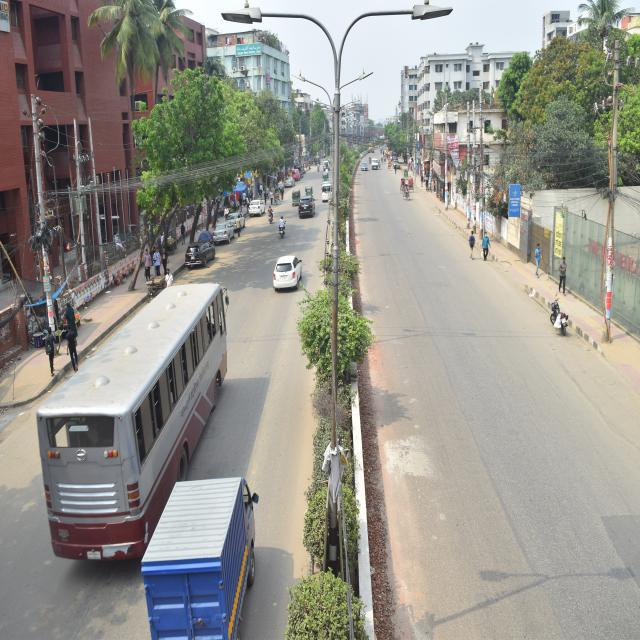bus: (37, 277, 231, 548)
car: (270, 253, 307, 295), (176, 235, 213, 274), (318, 186, 342, 210), (249, 188, 263, 225), (210, 220, 229, 240), (233, 201, 245, 226), (298, 198, 308, 220)
motorbike: (542, 291, 570, 336), (275, 219, 289, 239)
